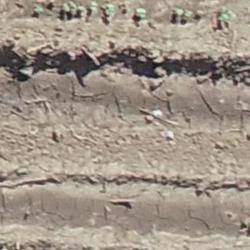cotton: (220, 9, 231, 19), (106, 5, 115, 14), (63, 1, 72, 10), (90, 2, 97, 12), (137, 8, 144, 17), (77, 6, 85, 13), (177, 8, 183, 16), (185, 11, 192, 17), (35, 5, 42, 11)
